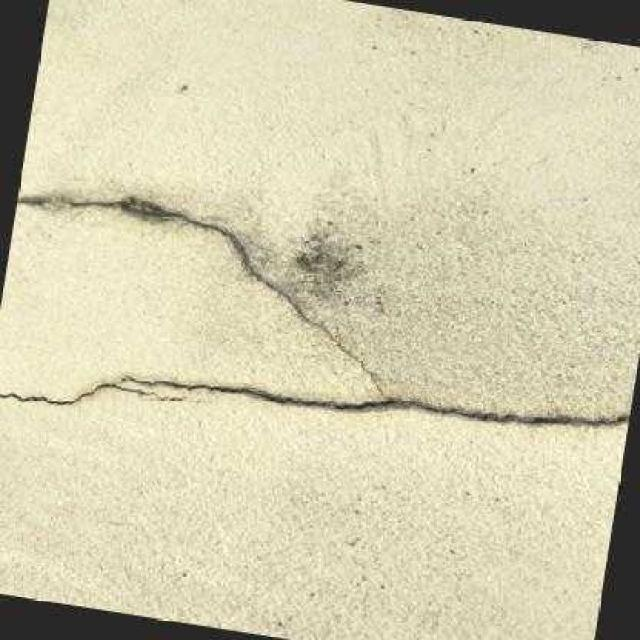D00: (0, 196, 629, 428)
